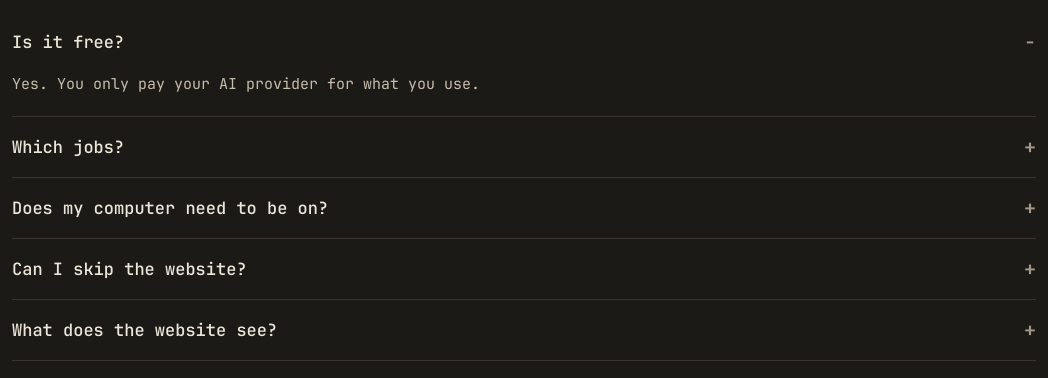
Test: Faq › should hide the answer when an open question is clicked
Step 1. Click the button "Is it free? −" → {"x": 68, "y": 42}, box [12,12,1036,72]
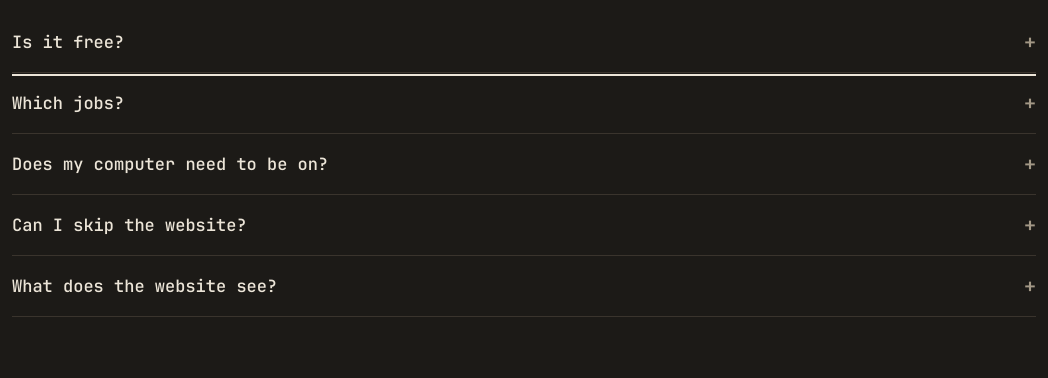
Expected: the text "Yes. You only pay your AI provider for what you use." is gone
